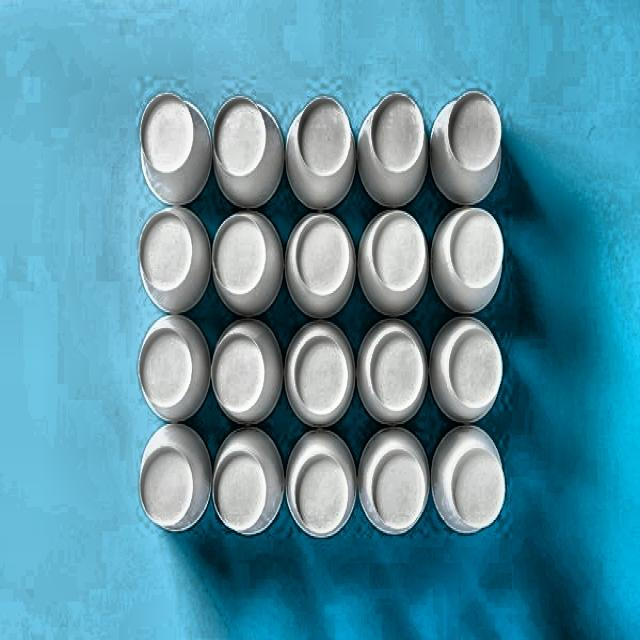Cup: (208, 74, 289, 212), (130, 83, 213, 212), (426, 420, 510, 540), (284, 92, 361, 214), (206, 204, 288, 318), (204, 310, 282, 429), (349, 310, 430, 423), (282, 201, 358, 321), (356, 200, 432, 320), (428, 308, 507, 423), (431, 197, 507, 316), (210, 422, 284, 544), (355, 423, 432, 539), (136, 421, 212, 537), (354, 91, 429, 208), (430, 86, 506, 201), (284, 311, 357, 427), (137, 204, 210, 318), (284, 426, 359, 535), (134, 314, 211, 419)
